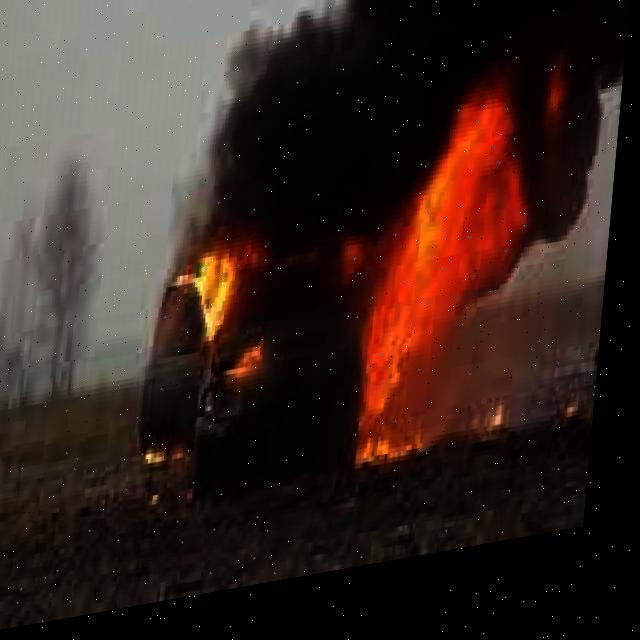Fire: (334, 70, 605, 474), (172, 192, 300, 408)
